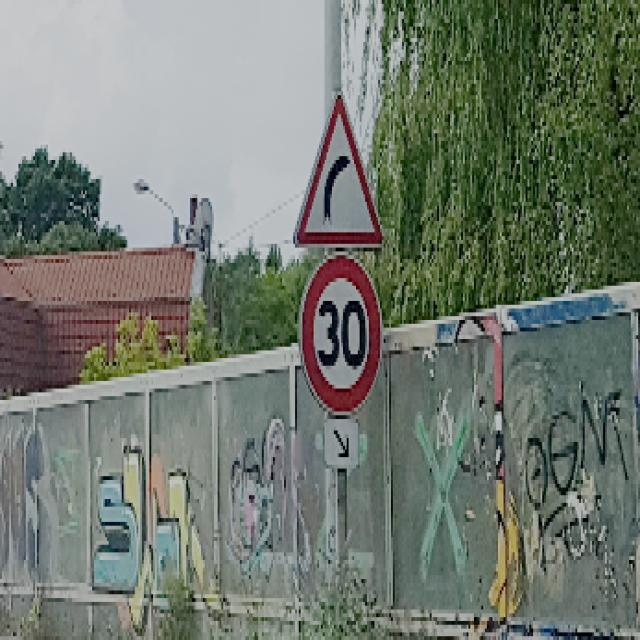speed_30: (298, 256, 384, 418)
